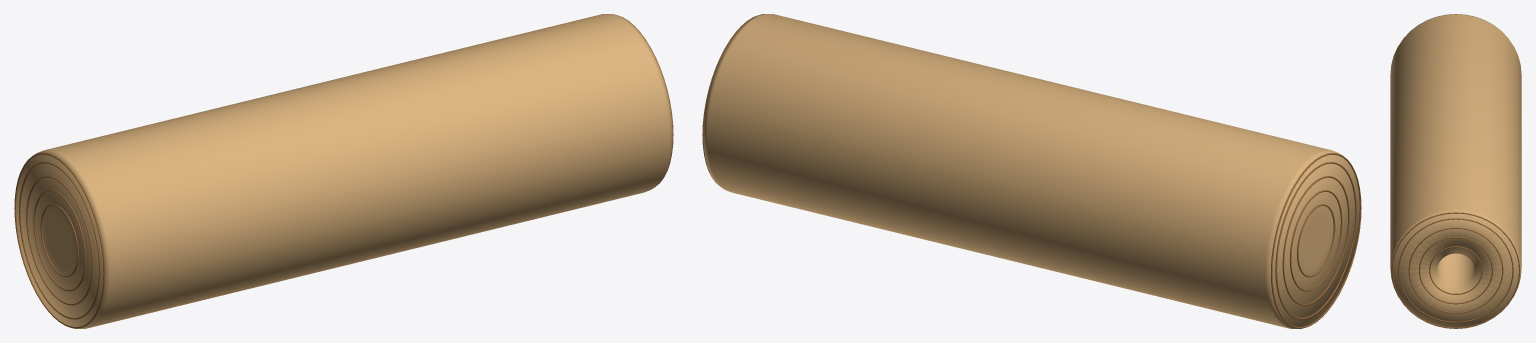
The model's file is workbench_kraft.glb.
3 renders of one model, left to right at view 1: azimuth 30°, elevation 25°; view 2: azimuth 150°, elevation 25°; view 3: azimuth 270°, elevation 25°, orthographic. The views are drawn at different scales.
Visible parts, largest first — view 1: Hollow_kraft_roll, Rolled_paper_end_layer.004, Rolled_paper_end_layer.003, Rolled_paper_end_layer.002, Rolled_paper_end_layer.001; view 2: Hollow_kraft_roll, Rolled_paper_end_layer.004, Rolled_paper_end_layer.003, Rolled_paper_end_layer.002, Rolled_paper_end_layer.001; view 3: Hollow_kraft_roll, Rolled_paper_end_layer.009, Rolled_paper_end_layer.008, Rolled_paper_end_layer.007, Rolled_paper_end_layer.006, Rolled_paper_end_layer.005.
Boxes of the visible parts, x1,y1,x2,y2 form: Hollow_kraft_roll: (16,14,672,328); Rolled_paper_end_layer.004: (14,153,105,328); Rolled_paper_end_layer.003: (19,162,100,319); Rolled_paper_end_layer.002: (26,176,93,305); Rolled_paper_end_layer.001: (33,190,86,291); Hollow_kraft_roll: (703,14,1359,328); Rolled_paper_end_layer.004: (1270,153,1361,328); Rolled_paper_end_layer.003: (1275,162,1356,319); Rolled_paper_end_layer.002: (1282,176,1349,305); Rolled_paper_end_layer.001: (1289,190,1342,291); Hollow_kraft_roll: (1390,14,1521,328); Rolled_paper_end_layer.009: (1391,212,1520,328); Rolled_paper_end_layer.008: (1398,218,1513,322); Rolled_paper_end_layer.007: (1408,227,1503,313); Rolled_paper_end_layer.006: (1419,237,1492,304); Rolled_paper_end_layer.005: (1429,246,1482,294).
Size of the model in its own units: 0.5023 by 0.14 by 0.14.
